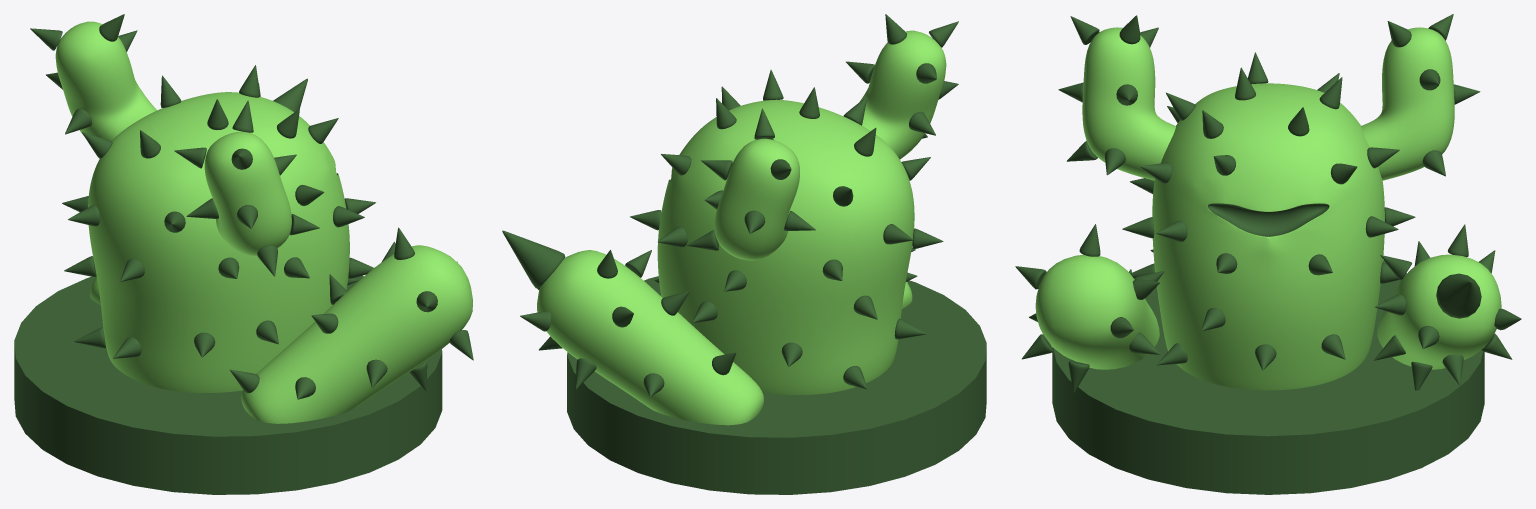
Rendered from Spike Shooter Cactus 2.fbx.
The picture shows the model from 3 angles, left to right: view 1: azimuth 30°, elevation 25°; view 2: azimuth 150°, elevation 25°; view 3: azimuth 270°, elevation 25°; orthographic projection. The views are drawn at different scales.
Parts seen in each view (by area): view 1: Spike Shooter Cactus; view 2: Spike Shooter Cactus; view 3: Spike Shooter Cactus.
Part boxes in pixels (x1,y1,x2,y2): Spike Shooter Cactus: (14, 14, 473, 494); Spike Shooter Cactus: (502, 14, 986, 494); Spike Shooter Cactus: (1015, 14, 1521, 494).
Bounding box in the file's own units: 2 × 1.87 × 2.34.
